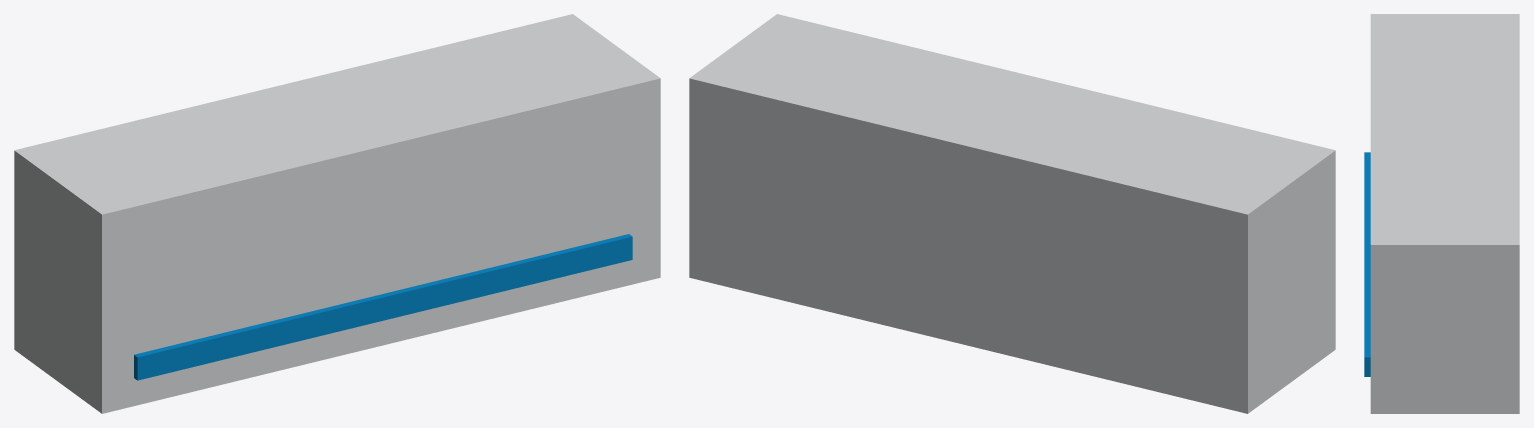
File: term-mini-split-head.glb
The picture shows the model from 3 angles, left to right: view 1: azimuth 30°, elevation 25°; view 2: azimuth 150°, elevation 25°; view 3: azimuth 270°, elevation 25°; orthographic projection. The views are drawn at different scales.
Visible parts, largest first — view 1: hvac-terminal-mini-split-wall-head; view 2: hvac-terminal-mini-split-wall-head; view 3: hvac-terminal-mini-split-wall-head.
Boxes of the visible parts, x1,y1,x2,y2 form: hvac-terminal-mini-split-wall-head: (14, 14, 660, 413); hvac-terminal-mini-split-wall-head: (689, 14, 1335, 413); hvac-terminal-mini-split-wall-head: (1364, 14, 1519, 413).
Bounding box in the file's own units: 0.88 × 0.3 × 0.25.
